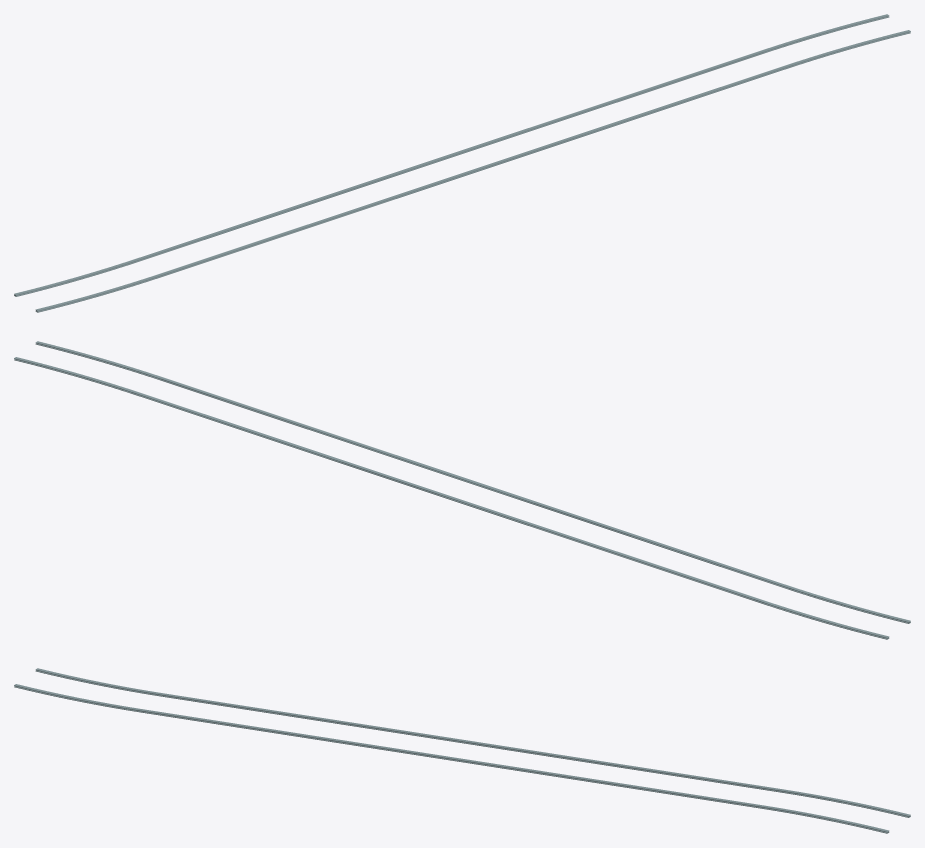
Rendered from RoadPlan_RampStructure_2L_Rise8_L110.glb.
The picture shows the model from 3 angles, top to bottom: view 1: azimuth 30°, elevation 25°; view 2: azimuth 150°, elevation 25°; view 3: azimuth 330°, elevation 25°; orthographic projection.
Visible parts, largest first — view 1: RoadPlan_RampStructure_2L_Rise8_L110_ConstantGrade_Girder_1, RoadPlan_RampStructure_2L_Rise8_L110_ConstantGrade_Girder_-1; view 2: RoadPlan_RampStructure_2L_Rise8_L110_ConstantGrade_Girder_-1, RoadPlan_RampStructure_2L_Rise8_L110_ConstantGrade_Girder_1; view 3: RoadPlan_RampStructure_2L_Rise8_L110_ConstantGrade_Girder_1, RoadPlan_RampStructure_2L_Rise8_L110_ConstantGrade_Girder_-1, RoadPlan_RampStructure_2L_Rise8_L110_UpperVerticalCurve_Gird (×2), RoadPlan_RampStructure_2L_Rise8_L110_LowerVerticalCurve_Gird (×2).
Boxes of the visible parts, x1,y1,x2,y2 form: RoadPlan_RampStructure_2L_Rise8_L110_ConstantGrade_Girder_1: (141, 51, 762, 260); RoadPlan_RampStructure_2L_Rise8_L110_ConstantGrade_Girder_-1: (163, 66, 783, 275); RoadPlan_RampStructure_2L_Rise8_L110_ConstantGrade_Girder_-1: (162, 378, 783, 587); RoadPlan_RampStructure_2L_Rise8_L110_ConstantGrade_Girder_1: (141, 393, 761, 602); RoadPlan_RampStructure_2L_Rise8_L110_ConstantGrade_Girder_1: (162, 693, 783, 792); RoadPlan_RampStructure_2L_Rise8_L110_ConstantGrade_Girder_-1: (141, 709, 761, 808); RoadPlan_RampStructure_2L_Rise8_L110_UpperVerticalCurve_Gird (×2): (760, 789, 910, 833); RoadPlan_RampStructure_2L_Rise8_L110_LowerVerticalCurve_Gird (×2): (14, 668, 164, 712).
Size of the model in its own units: 110 by 8.22 by 5.14.
